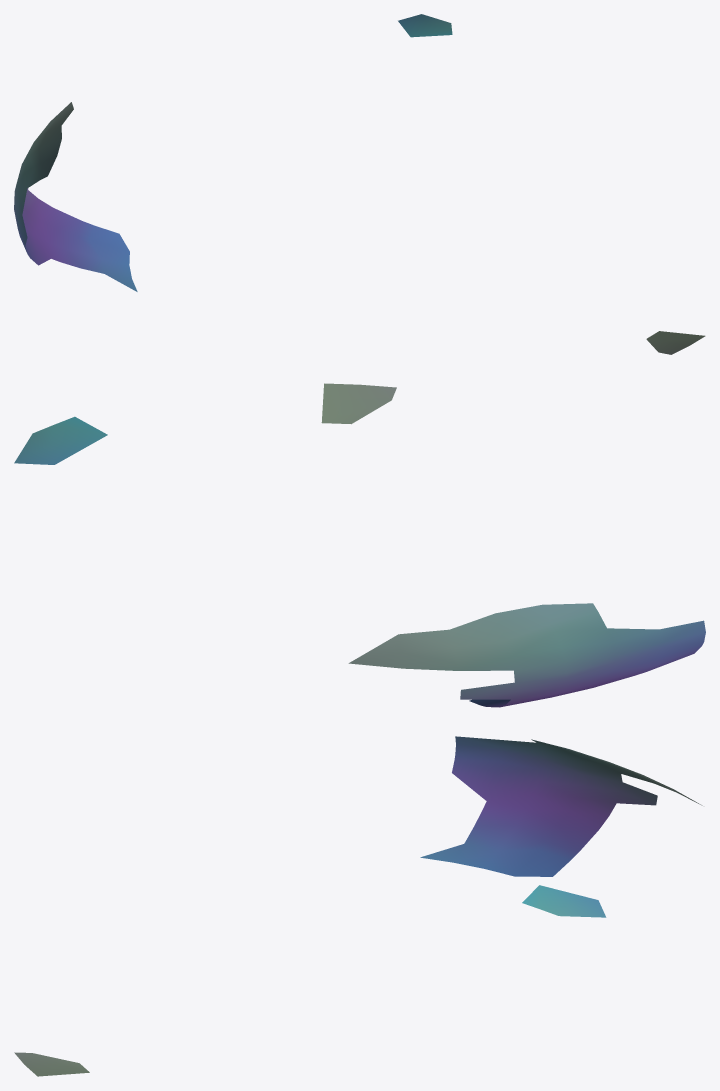
Rendered from space-galaxies-irregular-galaxy_v10.glb.
3 views of the same model, one above another, from view 1: azimuth 30°, elevation 25°; view 2: azimuth 150°, elevation 25°; view 3: azimuth 270°, elevation 25° (orthographic). The views are drawn at different scales.
Parts seen in each view (by area): view 1: Irregular Galaxy_v10; view 2: Irregular Galaxy_v10; view 3: Irregular Galaxy_v10.
Part boxes in pixels (left/top/right/bottom): Irregular Galaxy_v10: left=14, top=14, right=705, bottom=354; Irregular Galaxy_v10: left=14, top=383, right=705, bottom=707; Irregular Galaxy_v10: left=14, top=736, right=702, bottom=1076.
Bounding box in the file's own units: 0.4419 × 0.132 × 0.5.
